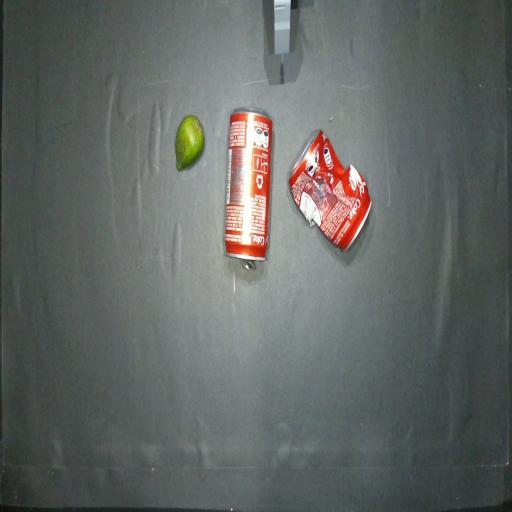higo: (175, 115, 204, 171)
lata: (225, 108, 273, 268)
lata_defectuoso: (289, 130, 371, 250)
